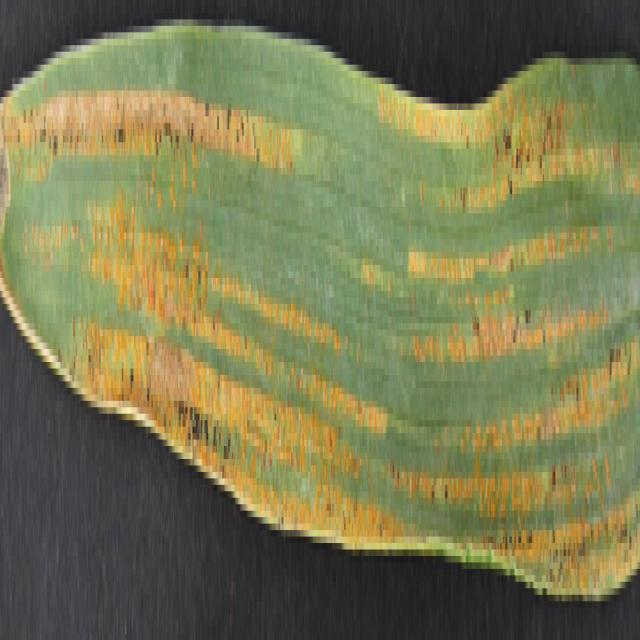leaf rust: (0, 38, 640, 607)
